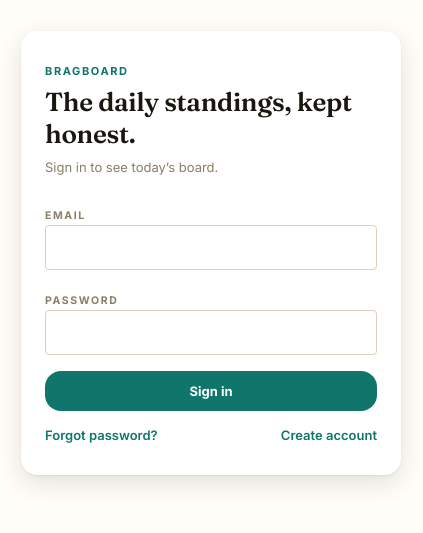
it: SignInGate › shows a friendly error message when credentials sign-in fails
This screenshot has width=423, height=533.
Step 1. Type "abeer@example.com" into the field labelled "Email" → (211, 248), box [45,225,377,270]
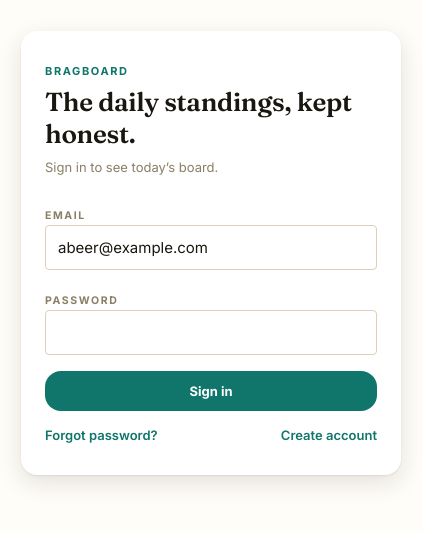
Step 2. Type "wrong-password" into the password field labelled "Password" → (211, 333), box [45,310,377,355]
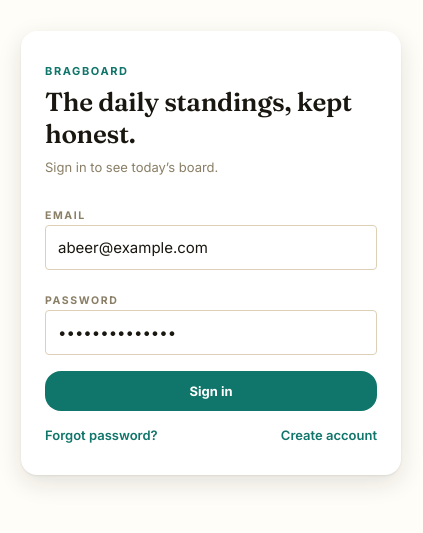
Step 3. Click the button "Sign in" → click(211, 391), box [45,371,377,411]
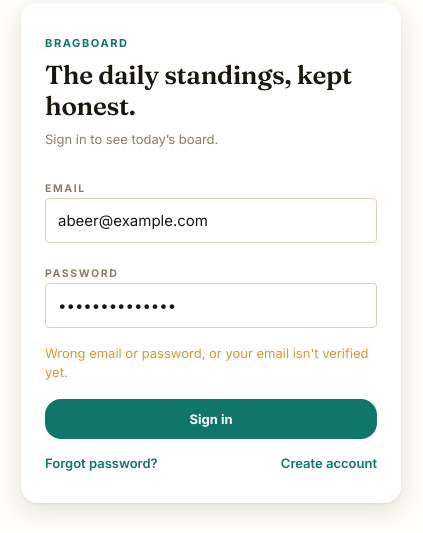
Expected: the text "Wrong email or password, or your email isn't verified yet." is shown, [45,344,377,383]
